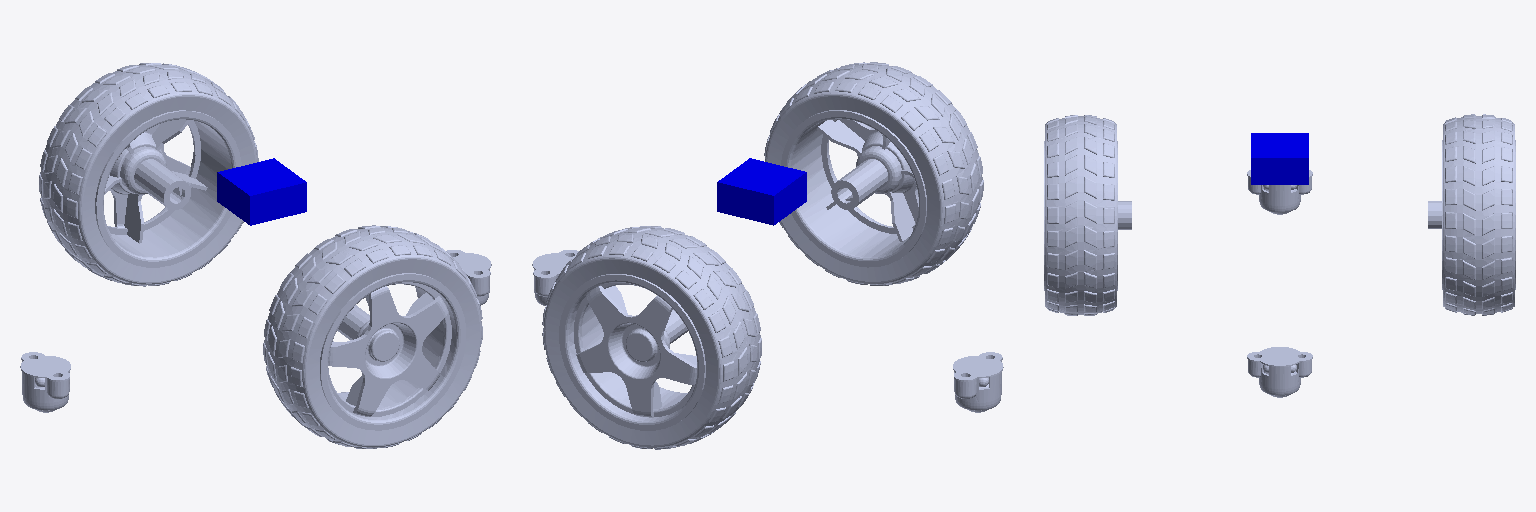
The robot description file, URDF, robot "robot_twin":
<?xml version="1.0" encoding="utf-8"?>
<robot name="robot_twin">
  <!-- Twin differential-drive robot (no IMU sensor or plugins) -->
  <link name="robot">
    <inertial>
      <origin xyz="-0.088 -0.038 0.07" rpy="0 0 0"/>
      <mass value="0.381416"/>
      <inertia ixx="0.000443" ixy="0.0" ixz="0.0" iyy="0.000767" iyz="0.0" izz="0.001196"/>
    </inertial>
    <visual>
      <origin xyz="0 0 0" rpy="0 0 -1.5708"/>
      <geometry>
        <mesh filename="package://robot_description/meshes/robot.STL"/>
      </geometry>
      <material name="">
        <color rgba="0.30 0.15 0.05 1.0"/>
      </material>
    </visual>
    <collision>
      <origin xyz="-0.088 -0.038 0.09" rpy="0 0 -1.5708"/>
      <geometry>
        <box size="0.20 0.18 0.08"/>
      </geometry>
    </collision>
  </link>

  <!-- Right drive wheel -->
  <link name="right_wheel">
    <inertial>
      <origin xyz="0 0 0" rpy="0 0 0"/>
      <mass value="0.0214028"/>
      <inertia ixx="8.628e-06" ixy="0.0" ixz="0.0" iyy="8.628e-06" iyz="0.0" izz="1.451e-05"/>
    </inertial>
    <visual>
      <origin xyz="0 0 0" rpy="0 0 0"/>
      <geometry>
        <mesh filename="package://robot_description/meshes/right_wheel.STL"/>
      </geometry>
      <material name="">
        <color rgba="0.792 0.820 0.933 1"/>
      </material>
    </visual>
    <collision>
      <origin xyz="0 0 0" rpy="0 0 0"/>
      <geometry>
        <cylinder radius="0.034" length="0.025"/>
      </geometry>
    </collision>
  </link>

  <!-- Right wheel joint -->
  <joint name="rw" type="continuous">
    <origin xyz="-0.088156 -0.118440 0.068553" rpy="-1.5708 -0.44143 3.14159"/>
    <parent link="robot"/>
    <child link="right_wheel"/>
    <axis xyz="0 0 -1"/>
    <dynamics damping="0.01" friction="0.1"/>
  </joint>

  <!-- Left drive wheel -->
  <link name="left_wheel">
    <inertial>
      <origin xyz="0 0 0" rpy="0 0 0"/>
      <mass value="0.0214028"/>
      <inertia ixx="8.628e-06" ixy="0.0" ixz="0.0" iyy="8.628e-06" iyz="0.0" izz="1.451e-05"/>
    </inertial>
    <visual>
      <origin xyz="0 0 0" rpy="0 0 0"/>
      <geometry>
        <mesh filename="package://robot_description/meshes/left_wheel.STL"/>
      </geometry>
      <material name="">
        <color rgba="0.792 0.820 0.933 1"/>
      </material>
    </visual>
    <collision>
      <origin xyz="0 0 0" rpy="0 0 0"/>
      <geometry>
        <cylinder radius="0.034" length="0.025"/>
      </geometry>
    </collision>
  </link>

  <!-- Left wheel joint -->
  <joint name="lw" type="continuous">
    <origin xyz="-0.088663 0.042565 0.068553" rpy="-1.5708 1.3841 0"/>
    <parent link="robot"/>
    <child link="left_wheel"/>
    <axis xyz="0 0 1"/>
    <dynamics damping="0.01" friction="0.1"/>
  </joint>

  <!-- Front caster wheel -->
  <link name="front_free_wheel">
    <inertial>
      <origin xyz="0 0 0" rpy="0 0 0"/>
      <mass value="0.001987"/>
      <inertia ixx="5.743e-08" ixy="0.0" ixz="0.0" iyy="6.238e-08" iyz="0.0" izz="3.913e-08"/>
    </inertial>
    <visual>
      <origin xyz="0.15 0 0" rpy="0 0 0"/>
      <geometry>
        <mesh filename="package://robot_description/meshes/front_free_wheel.STL"/>
      </geometry>
      <material name="">
        <color rgba="0.792 0.820 0.933 1"/>
      </material>
    </visual>
    <collision>
      <origin xyz="0 0 0" rpy="0 0 0"/>
      <geometry>
        <sphere radius="0.012"/>
      </geometry>
    </collision>
  </link>

  <!-- Front caster joint -->
  <joint name="ff" type="continuous">
    <origin xyz="-0.014156 -0.037935 0.049093" rpy="1.5708 0 3.14159"/>
    <parent link="robot"/>
    <child link="front_free_wheel"/>
    <axis xyz="0 1 0"/>
    <dynamics damping="0.005" friction="0.05"/>
  </joint>

  <!-- Back caster wheel -->
  <link name="back_free_wheel">
    <inertial>
      <origin xyz="0 0 0" rpy="0 0 0"/>
      <mass value="0.001987"/>
      <inertia ixx="5.743e-08" ixy="0.0" ixz="0.0" iyy="6.238e-08" iyz="0.0" izz="3.913e-08"/>
    </inertial>
    <visual>
      <origin xyz="-0.0 0 0" rpy="0 0 0"/>
      <geometry>
        <sphere radius="0.0001"/>
      </geometry>
      <material name="">
        <color rgba="0.792 0.820 0.933 1"/>
      </material>
    </visual>
    <collision>
      <origin xyz="0 0 0" rpy="0 0 0"/>
      <geometry>
        <sphere radius="0.012"/>
      </geometry>
    </collision>
  </link>

  <!-- Back caster joint -->
  <joint name="bf" type="continuous">
    <origin xyz="-0.16216 -0.037935 0.049093" rpy="0 0 -1.5708"/>
    <parent link="robot"/>
    <child link="back_free_wheel"/>
    <axis xyz="0 1 0"/>
    <dynamics damping="0.005" friction="0.05"/>
  </joint>

  <!-- IMU sensor link -->
  <link name="imu_link">
    <inertial>
      <origin xyz="0 0 0" rpy="0 0 0"/>
      <mass value="0.001"/>
      <inertia ixx="1e-06" ixy="0.0" ixz="0.0" iyy="1e-06" iyz="0.0" izz="1e-06"/>
    </inertial>
    <visual>
      <origin xyz="0 0 0" rpy="0 0 0"/>
      <geometry>
        <box size="0.02 0.02 0.01"/>
      </geometry>
      <material name="blue">
        <color rgba="0.0 0.0 1.0 1.0"/>
      </material>
    </visual>
  </link>

  <!-- IMU fixed joint -->
  <joint name="imu_joint" type="fixed">
    <origin xyz="-0.088 -0.038 0.09" rpy="0 0 -1.5708"/>
    <parent link="robot"/>
    <child link="imu_link"/>
  </joint>

  <!-- Gazebo: right wheel friction/visual -->
  <gazebo reference="right_wheel">
    <mu1>1.0</mu1>
    <mu2>1.0</mu2>
    <kp>1000000.0</kp>
    <kd>100.0</kd>
    <visual>
      <material>
        <ambient>0.792 0.820 0.933 1</ambient>
        <diffuse>0.792 0.820 0.933 1</diffuse>
        <specular>0.1 0.1 0.1 1</specular>
      </material>
    </visual>
  </gazebo>

  <!-- Gazebo: left wheel friction/visual -->
  <gazebo reference="left_wheel">
    <mu1>1.0</mu1>
    <mu2>1.0</mu2>
    <kp>1000000.0</kp>
    <kd>100.0</kd>
    <visual>
      <material>
        <ambient>0.792 0.820 0.933 1</ambient>
        <diffuse>0.792 0.820 0.933 1</diffuse>
        <specular>0.1 0.1 0.1 1</specular>
      </material>
    </visual>
  </gazebo>

  <!-- Gazebo: front caster friction/visual -->
  <gazebo reference="front_free_wheel">
    <mu1>0.0</mu1>
    <mu2>0.0</mu2>
    <kp>1000000.0</kp>
    <kd>100.0</kd>
    <visual>
      <material>
        <ambient>0.792 0.820 0.933 1</ambient>
        <diffuse>0.792 0.820 0.933 1</diffuse>
        <specular>0.1 0.1 0.1 1</specular>
      </material>
    </visual>
  </gazebo>

  <!-- Gazebo: back caster friction/visual -->
  <gazebo reference="back_free_wheel">
    <mu1>0.0</mu1>
    <mu2>0.0</mu2>
    <kp>1000000.0</kp>
    <kd>100.0</kd>
    <visual>
      <material>
        <ambient>0.792 0.820 0.933 1</ambient>
        <diffuse>0.792 0.820 0.933 1</diffuse>
        <specular>0.1 0.1 0.1 1</specular>
      </material>
    </visual>
  </gazebo>

  <gazebo>
    <plugin filename="gz-sim-diff-drive-system" name="gz::sim::systems::DiffDrive">
      <left_joint>lw</left_joint>
      <right_joint>rw</right_joint>
      <wheel_separation>0.161</wheel_separation>
      <wheel_radius>0.034</wheel_radius>
      <topic>/cmd_vel</topic>
      <odom_topic>/odom</odom_topic>
      <frame_id>odom</frame_id>
      <child_frame_id>robot</child_frame_id>
    </plugin>
  </gazebo>

</robot>

--- What the picture shows (computed from the rendered views, not written in the file) ---
Views: 3 orthographic renders of the robot side by side, from view 1: azimuth 30°, elevation 25°; view 2: azimuth 150°, elevation 25°; view 3: azimuth 270°, elevation 25°.
Robot: robot_twin — 6 links, 5 joints (4 continuous, 1 fixed); root link robot; default pose: all joints at 0.
Visible links, largest first — view 1: right_wheel, left_wheel, imu_link, front_free_wheel; view 2: left_wheel, right_wheel, imu_link, front_free_wheel; view 3: right_wheel, left_wheel, front_free_wheel, imu_link.
Boxes of the visible links, x1=… form: right_wheel: x1=263, y1=225, x2=482, y2=448; left_wheel: x1=39, y1=63, x2=258, y2=286; imu_link: x1=217, y1=158, x2=306, y2=225; front_free_wheel: x1=20, y1=250, x2=491, y2=412; left_wheel: x1=542, y1=226, x2=761, y2=449; right_wheel: x1=764, y1=62, x2=983, y2=285; imu_link: x1=717, y1=158, x2=806, y2=225; front_free_wheel: x1=532, y1=250, x2=1003, y2=412; right_wheel: x1=1044, y1=115, x2=1131, y2=315; left_wheel: x1=1428, y1=114, x2=1515, y2=315; front_free_wheel: x1=1247, y1=170, x2=1312, y2=397; imu_link: x1=1251, y1=133, x2=1308, y2=184.
Bounding box of the posed robot: 0.1635 × 0.161 × 0.0689 m (x, y, z).
Meshes: 4 distinct files referenced, 3 mesh visuals loaded (3 binary STL); not drawn: 1 (reference not matched to a file when rendering).
